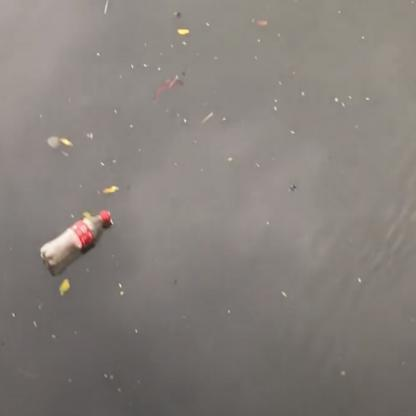plastic bottle: (40, 211, 111, 266)
